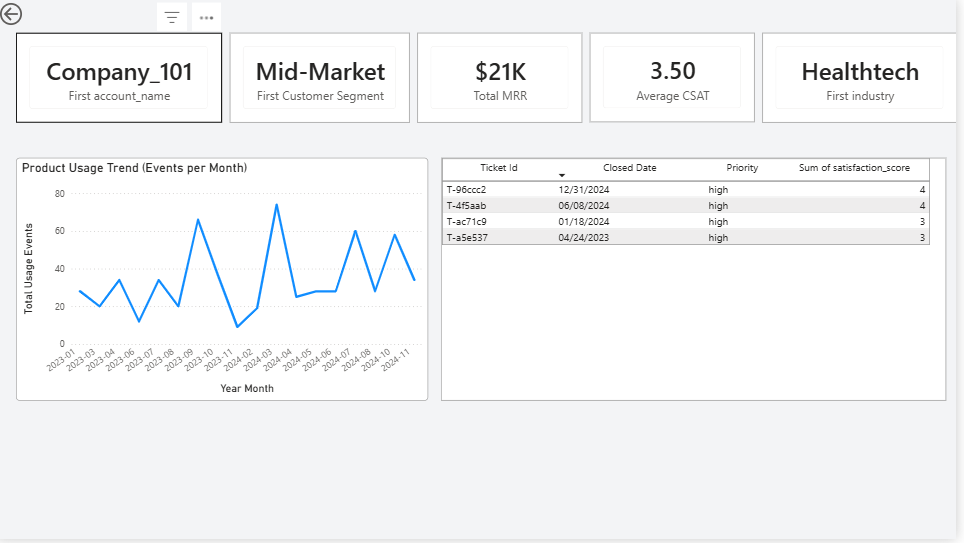

Layout of this report page (visuals, bound fields, positions):
{"tool":"powerbi","page":{"name":"Customer Profile","canvas":[1280,720],"ordinal":6},"visuals":[{"type":"actionButton","box":[0,0,100,40],"z":0},{"type":"cardVisual","fields":{"Data":["Min(Dim_Account.Customer Segment)"]},"box":[311.5,45.4,240,120],"z":1000},{"type":"cardVisual","fields":{"Data":["Min(Dim_Account.account_name)"]},"box":[26.9,44.2,274.8,120.2],"z":2000},{"type":"cardVisual","fields":{"Data":["Fact_Subscriptions.Total MRR"]},"box":[562,45.4,220,120],"z":3000},{"type":"cardVisual","fields":{"Data":["Min(Dim_Account.industry)"]},"box":[1021,44.7,260,120],"z":4000},{"type":"cardVisual","fields":{"Data":["Fact_SupportTickets.Average CSAT"]},"box":[791,44.7,220.2,119.4],"z":5000},{"type":"lineChart","title":"Product Usage Trend (Events per Month)","fields":{"Y":["Fact_FeatureUsage.Total Usage Events"],"Category":["Dim_Calendar.Year Month"]},"box":[27,212.3,549.7,323.9],"z":6000},{"type":"tableEx","fields":{"Values":["Fact_SupportTickets.ticket_id","Fact_SupportTickets.closed_at","Fact_SupportTickets.priority","Sum(Fact_SupportTickets.satisfaction_score)"]},"box":[593.9,212.3,673.6,323.9],"z":7000}]}

Visuals, with their boxes on the page's 1280x720 design canvas (x1, y1, x2, y2). These are canvas units, not pixel positions in the 964x543 screenshot, which may show the page scaled, cropped or inside an application window:
actionButton: bbox=(0, 0, 100, 40)
cardVisual - Min(Dim_Account.Customer Segment): bbox=(312, 45, 552, 165)
cardVisual - Min(Dim_Account.account_name): bbox=(27, 44, 302, 164)
cardVisual - Fact_Subscriptions.Total MRR: bbox=(562, 45, 782, 165)
cardVisual - Min(Dim_Account.industry): bbox=(1021, 45, 1281, 165)
cardVisual - Fact_SupportTickets.Average CSAT: bbox=(791, 45, 1011, 164)
"Product Usage Trend (Events per Month)" lineChart: bbox=(27, 212, 577, 536)
tableEx - Fact_SupportTickets.ticket_id x Fact_SupportTickets.closed_at: bbox=(594, 212, 1268, 536)
